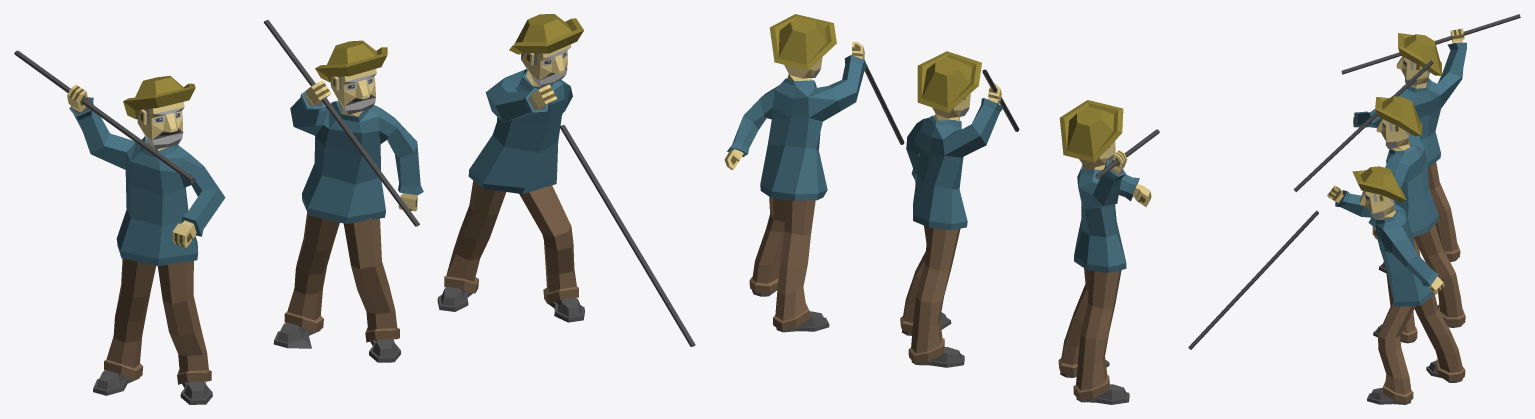
File: Fisherman_frames.fbx
3 renders of one model, left to right at view 1: azimuth 30°, elevation 25°; view 2: azimuth 150°, elevation 25°; view 3: azimuth 270°, elevation 25°, orthographic. The views are drawn at different scales.
Visible parts, largest first — view 1: Circle.005, Circle.004, Circle.003, VisualSceneNode63.004, VisualSceneNode63.005, VisualSceneNode63.006; view 2: Circle.003, Circle.004, Circle.005, VisualSceneNode63.004; view 3: Circle.003, Circle.004, Circle.005, VisualSceneNode63.004, VisualSceneNode63.005, VisualSceneNode63.006.
Boxes of the visible parts, box(x1,y1,x2,y2) form: Circle.005: box(67, 76, 225, 404); Circle.004: box(273, 40, 423, 362); Circle.003: box(437, 14, 584, 322); VisualSceneNode63.004: box(559, 125, 695, 347); VisualSceneNode63.005: box(263, 20, 419, 226); VisualSceneNode63.006: box(14, 50, 195, 182); Circle.003: box(724, 14, 866, 332); Circle.004: box(900, 51, 1003, 367); Circle.005: box(1058, 100, 1151, 404); VisualSceneNode63.004: box(864, 64, 904, 144); Circle.003: box(1327, 166, 1465, 404); Circle.004: box(1368, 96, 1465, 343); Circle.005: box(1353, 28, 1466, 272); VisualSceneNode63.004: box(1188, 210, 1318, 349); VisualSceneNode63.005: box(1293, 60, 1433, 191); VisualSceneNode63.006: box(1341, 14, 1520, 74).
Bounding box in the file's own units: 7.34 × 4.82 × 5.95.
